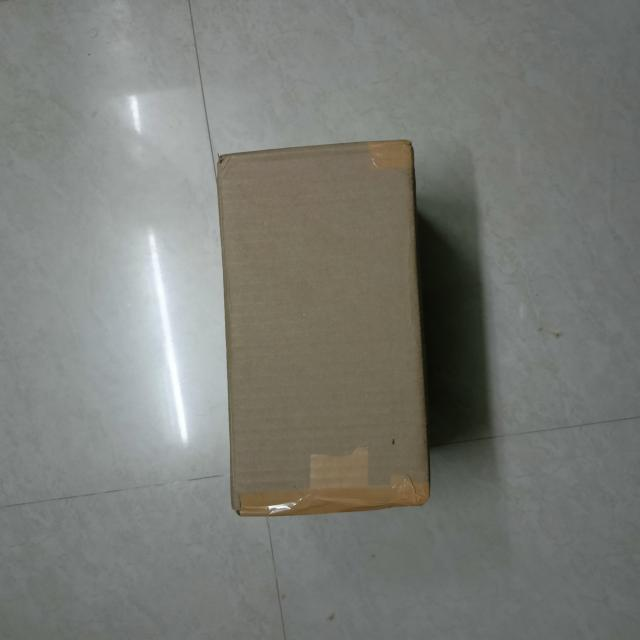box: (219, 140, 424, 513)
